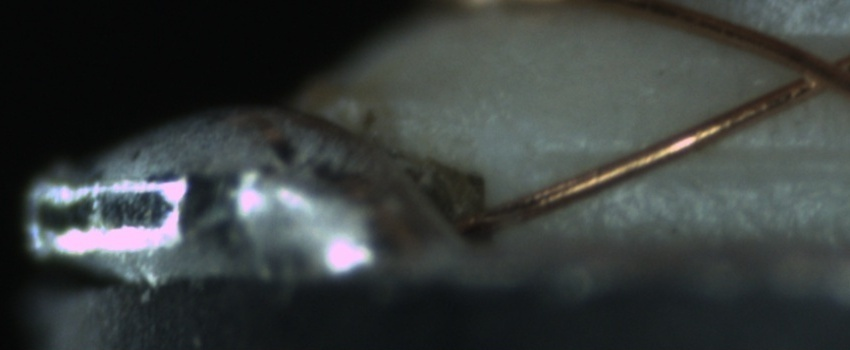CL: (776, 40, 849, 102)
DL: (549, 119, 850, 190)
